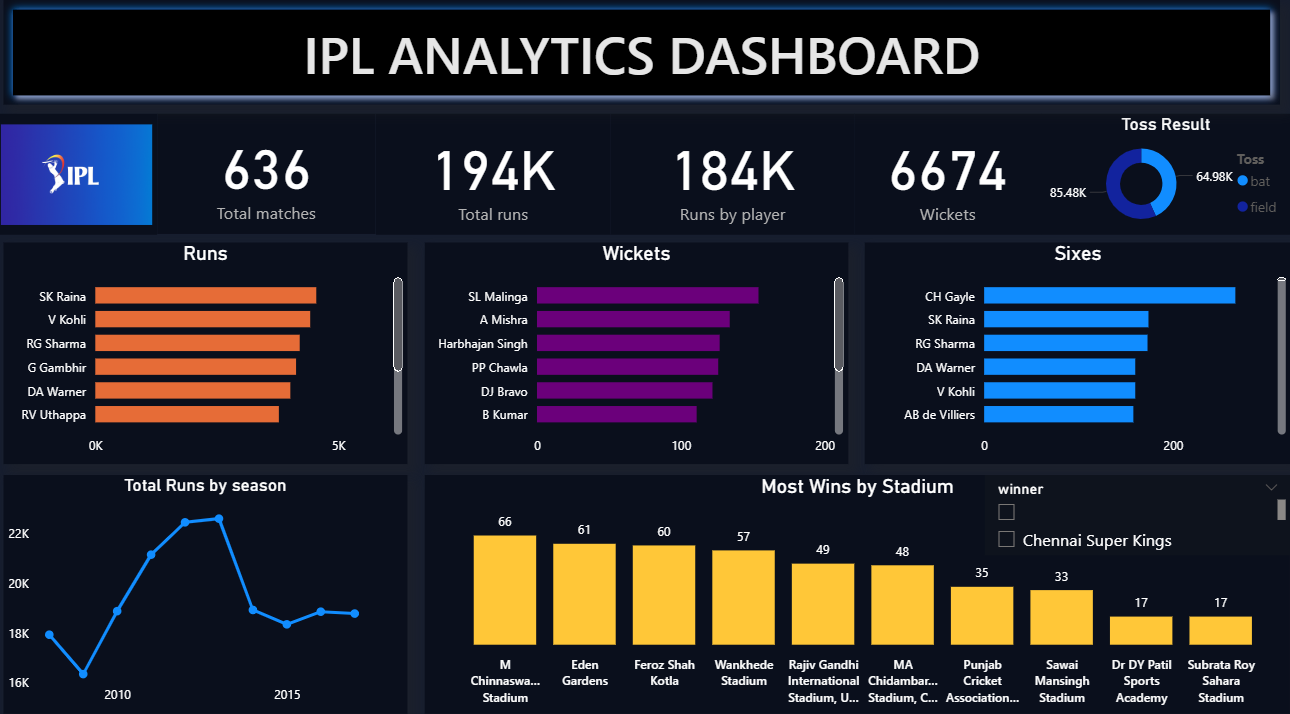

The page's visual inventory and layout, read from the dashboard file:
{"tool":"powerbi","page":{"name":"Page 1","canvas":[1280,720],"ordinal":0},"visuals":[{"type":"card","fields":{"Values":["cleaned_IPL.match_id"]},"box":[157.7,121.1,214,117.4],"z":0},{"type":"card","fields":{"Values":["cleaned_IPL.total_runs"]},"box":[371.7,120.5,229.9,118.3],"z":1000},{"type":"card","fields":{"Values":["cleaned_IPL.batsman_runs"]},"box":[601.6,120.5,238.5,118.3],"z":2000},{"type":"card","fields":{"Values":["cleaned_IPL.Wickets"]},"box":[840.1,120.5,182.2,118.3],"z":3000},{"type":"clusteredBarChart","title":"Runs","fields":{"Category":["cleaned_IPL.batsman"],"Y":["cleaned_IPL.total_runs"]},"box":[6.9,247.3,395.2,217.1],"z":4000},{"type":"clusteredBarChart","title":"Wickets","fields":{"Y":["cleaned_IPL.Wickets"],"Category":["cleaned_IPL.bowler"]},"box":[419.9,247.3,414.4,217.1],"z":5000},{"type":"donutChart","title":"Toss Result","fields":{"Y":["cleaned_IPL.toss_winner"],"Series":["cleaned_IPL.toss_decision"]},"box":[1022.3,120.5,244.6,118.3],"z":6000},{"type":"lineChart","fields":{"Y":["cleaned_IPL.Total Runs"],"Category":["cleaned_IPL.season"]},"box":[7.3,474.4,395,233.6],"z":7000},{"type":"clusteredBarChart","title":"Sixes ","fields":{"Y":["cleaned_IPL.Total Sixes"],"Category":["cleaned_IPL.batsman"]},"box":[849.4,247.3,417.2,217.1],"z":8000},{"type":"clusteredColumnChart","title":"Most Wins by Stadium","fields":{"Category":["cleaned_IPL.venue"],"Y":["cleaned_IPL.Wins"]},"box":[419.9,474.8,846.7,233.2],"z":9000},{"type":"slicer","fields":{"Values":["cleaned_IPL.winner"]},"box":[967.3,474.5,299.6,78.3],"z":11000},{"type":"shape","box":[7.3,9.8,1248.5,102.7],"z":12000},{"type":"image","box":[0,121.1,157.7,118.6],"z":12001}]}

Visuals, with their boxes in screenshot pixels (x1, y1, x2, y2), scaled from the page's 1280x720 canvas onto the 1290x714 screenshot:
card - cleaned_IPL.match_id: x1=159 y1=120 x2=375 y2=237
card - cleaned_IPL.total_runs: x1=375 y1=119 x2=606 y2=237
card - cleaned_IPL.batsman_runs: x1=606 y1=119 x2=847 y2=237
card - cleaned_IPL.Wickets: x1=847 y1=119 x2=1030 y2=237
"Runs" clusteredBarChart: x1=7 y1=245 x2=405 y2=461
"Wickets" clusteredBarChart: x1=423 y1=245 x2=841 y2=461
"Toss Result" donutChart: x1=1030 y1=119 x2=1277 y2=237
lineChart - cleaned_IPL.Total Runs x cleaned_IPL.season: x1=7 y1=470 x2=405 y2=702
"Sixes " clusteredBarChart: x1=856 y1=245 x2=1276 y2=461
"Most Wins by Stadium" clusteredColumnChart: x1=423 y1=471 x2=1276 y2=702
slicer - cleaned_IPL.winner: x1=975 y1=471 x2=1277 y2=548
shape: x1=7 y1=10 x2=1266 y2=112
image: x1=0 y1=120 x2=159 y2=238
